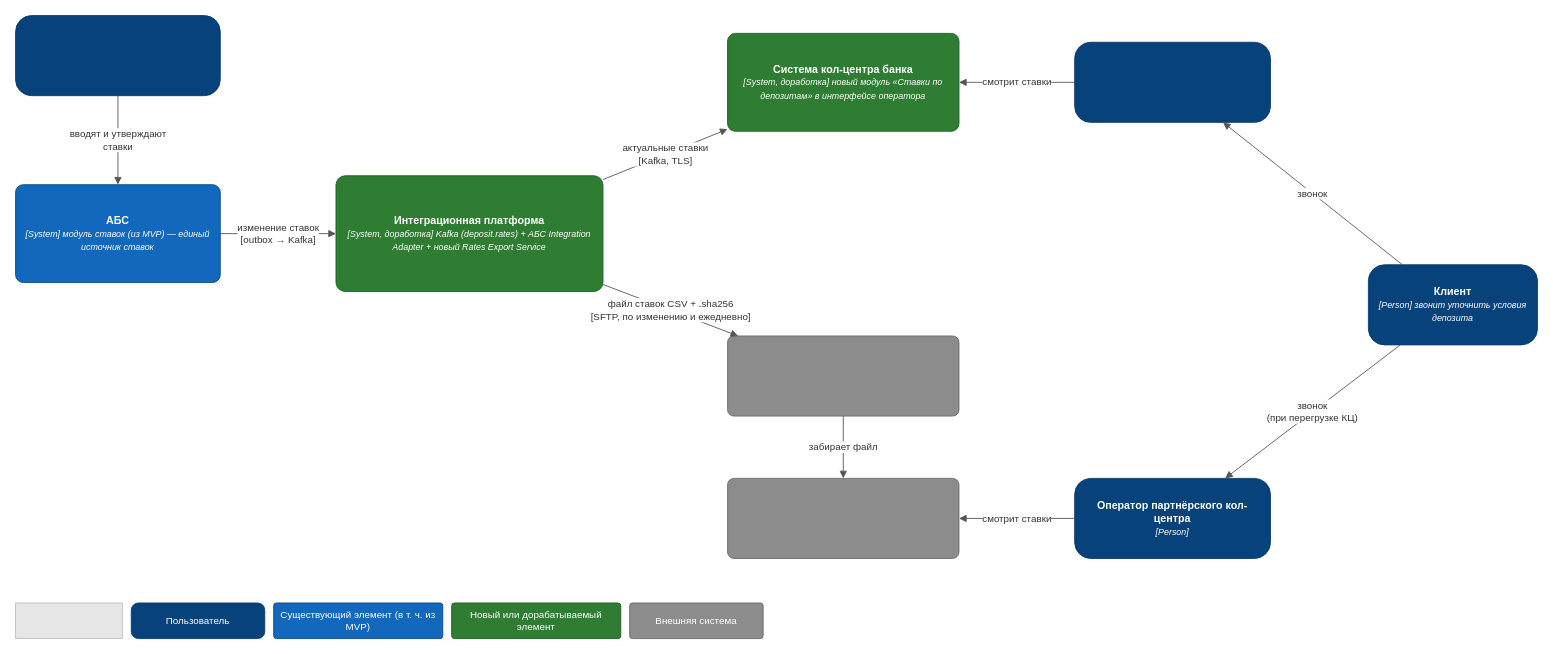
This 1553x654 diagram has some shape labels left out. Each missing label, with the centre of its shape:
SFTP-сервер партнёра [External System] приём файлов ставок: (x=843, y=375)
Легенда: (x=68, y=620)
Менеджер депозитов / Сотрудник кредитования [Person] бэк-офисы: (x=117, y=55)
Оператор кол-центра банка [Person]: (x=1172, y=81)
Система партнёрского кол-центра [External System] загружает файлы ставок: (x=843, y=517)
